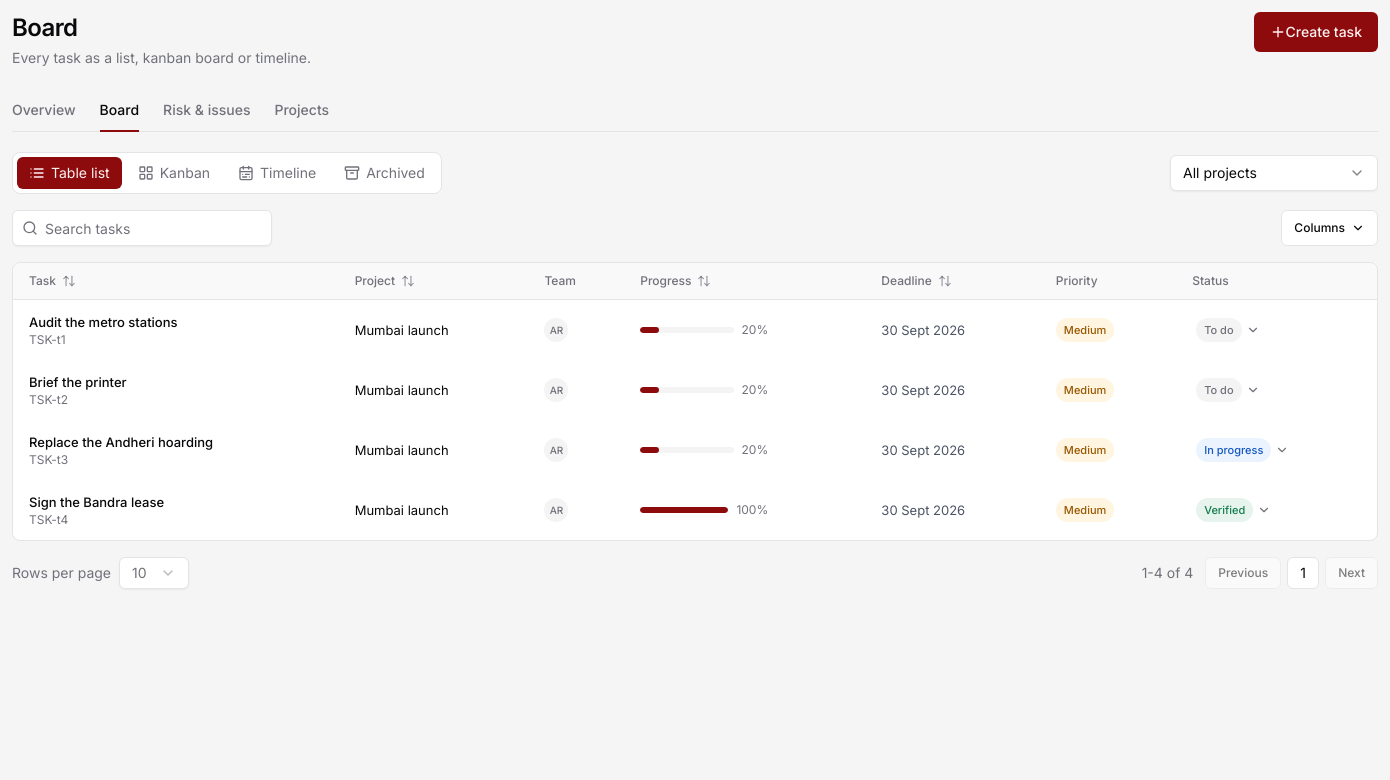
Test case: the task board › draws the read's columns with their counts and a 'more' line past the cap
Click the tab "Kanban": click(174, 173) top-left (126, 157), bottom-right (222, 189)
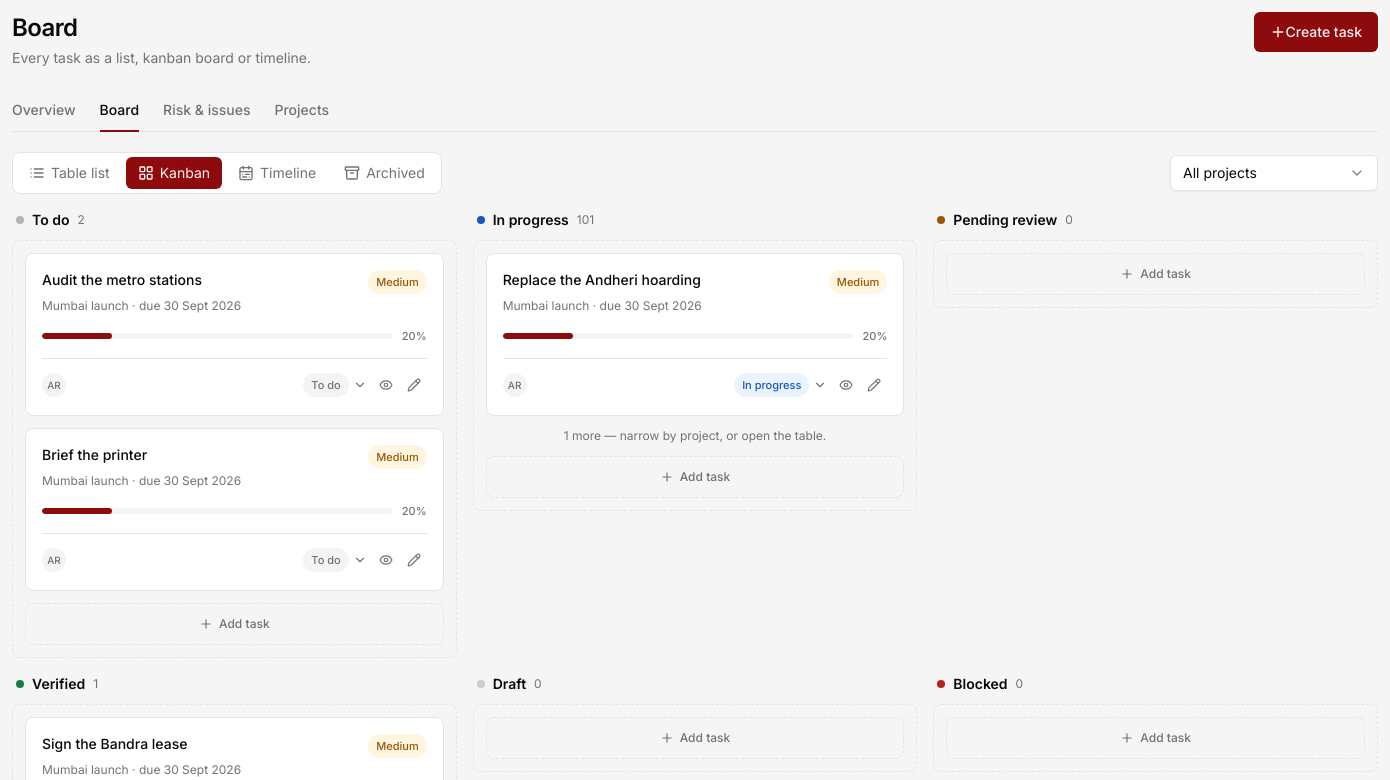
Expected: the element with test id "board-column-TODO" is shown, top-left (12, 210), bottom-right (457, 658)
Expected: the text "101" is shown, top-left (577, 212), bottom-right (594, 228)
Expected: the text "1 more — narrow by project, or open the table." is shown, top-left (564, 428), bottom-right (826, 443)
